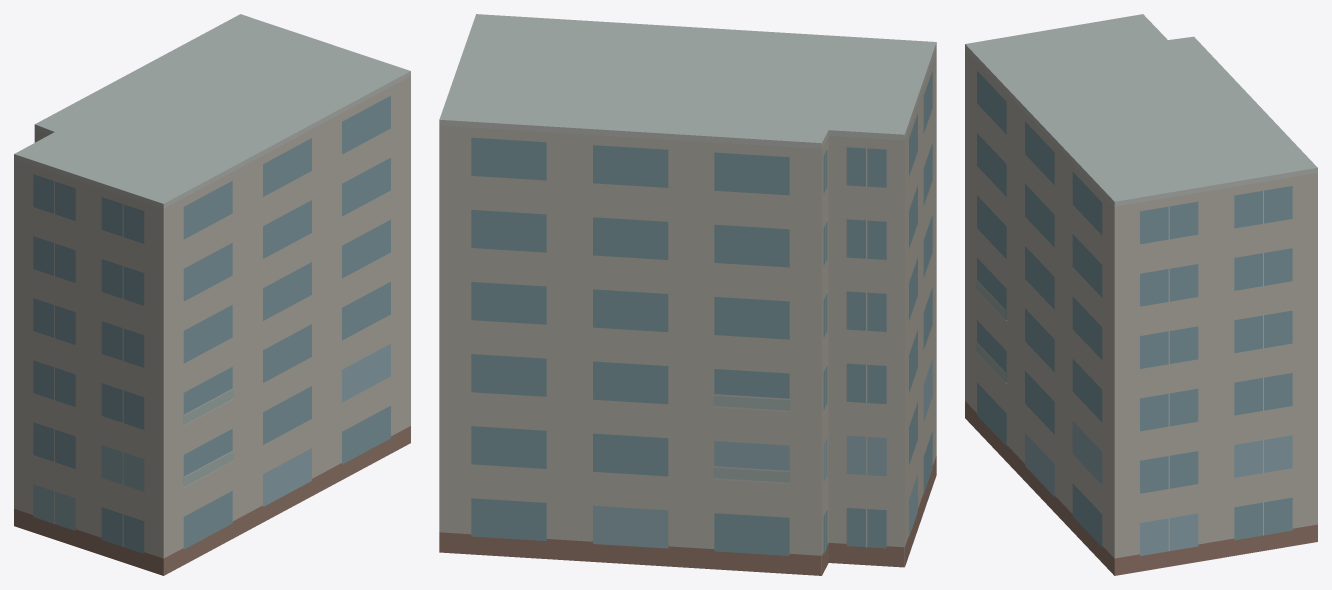
File: survey-upis-32680877.glb
The picture shows the model from 3 angles, left to right: view 1: azimuth 30°, elevation 25°; view 2: azimuth 150°, elevation 25°; view 3: azimuth 270°, elevation 25°; orthographic projection. The views are drawn at different scales.
Parts seen in each view (by area): view 1: survey-upis-32680877.tmp; view 2: survey-upis-32680877.tmp; view 3: survey-upis-32680877.tmp.
Part boxes in pixels (left/top/right/bottom): survey-upis-32680877.tmp: left=14, top=14, right=410, bottom=575; survey-upis-32680877.tmp: left=439, top=14, right=936, bottom=575; survey-upis-32680877.tmp: left=965, top=14, right=1317, bottom=575.
Size of the model in its own units: 19.71 by 18.3 by 15.65.
